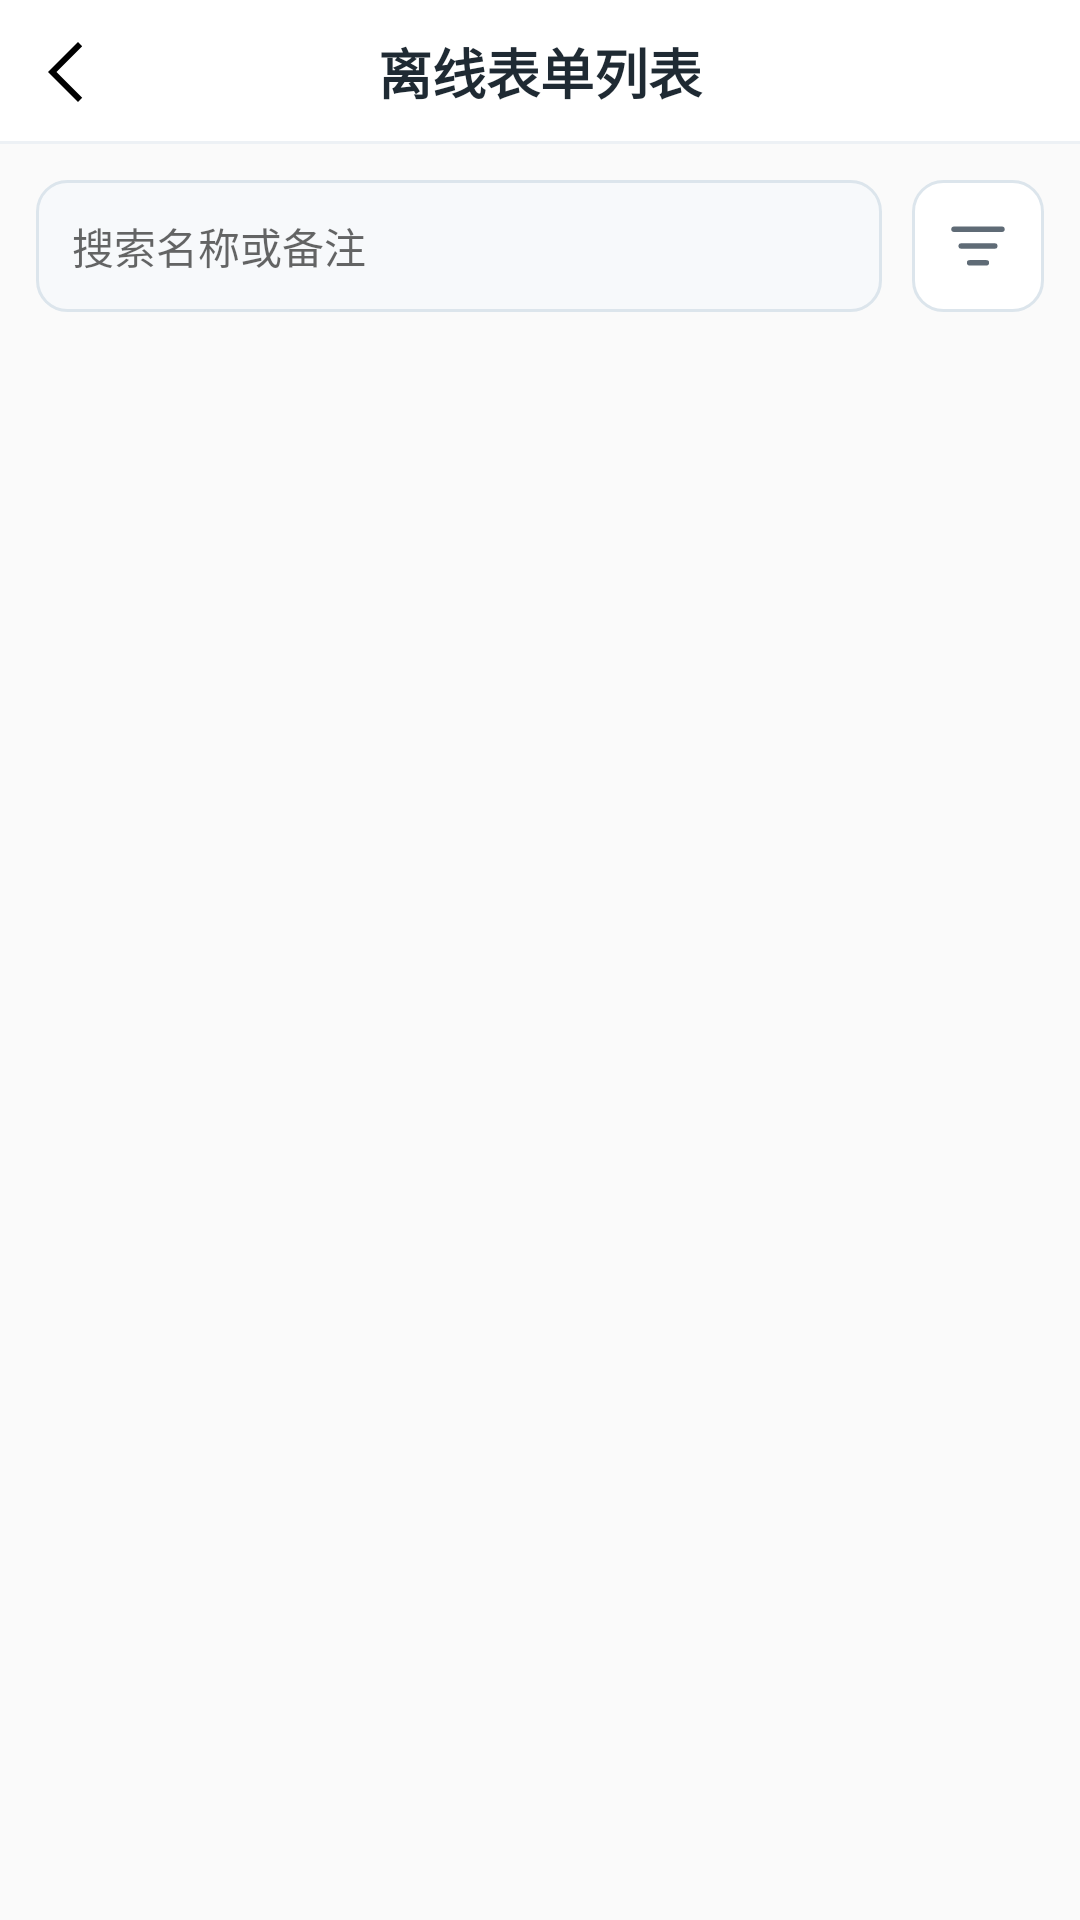

Point at icon controls on the screen. Image size 1080×1920, points as (x,y).
筛选: (978,246)
返回: (65,72)
